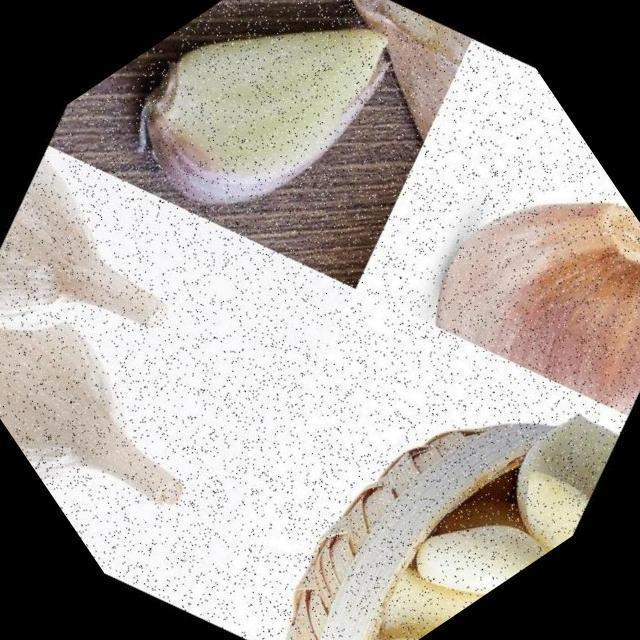garlic: (251, 332, 640, 640), (76, 0, 466, 302), (0, 200, 288, 590), (360, 99, 640, 481), (0, 93, 273, 463), (265, 0, 508, 190)
